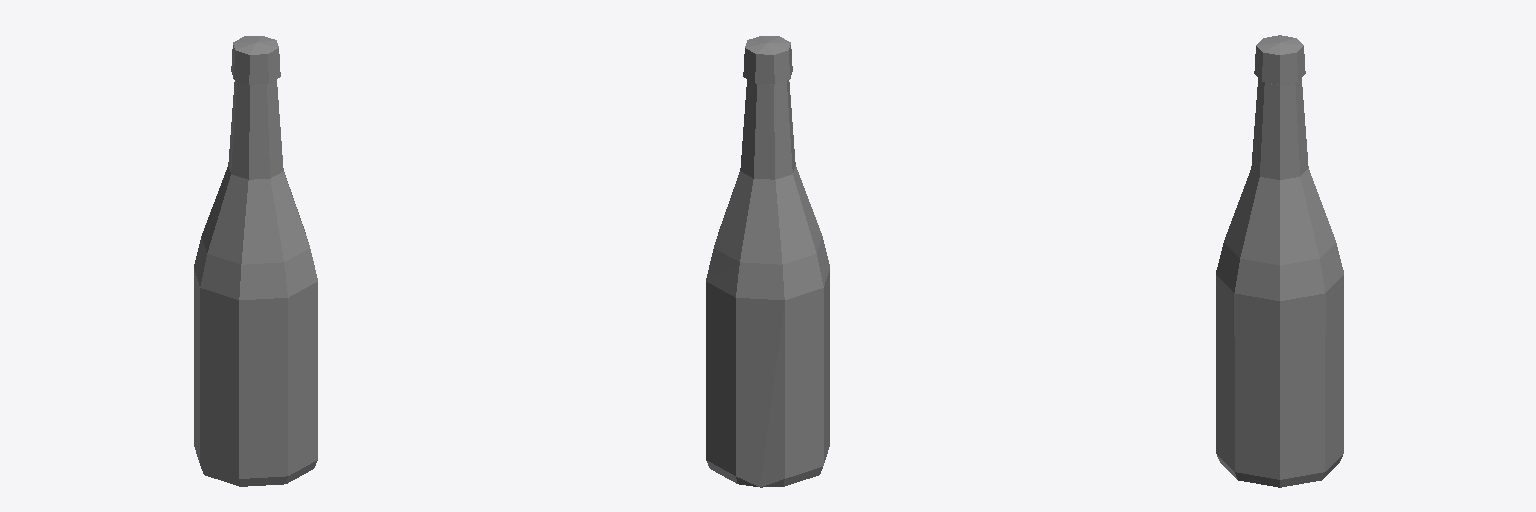
The model's file is broken_normals.obj.
3 renders of one model, left to right at view 1: azimuth 30°, elevation 25°; view 2: azimuth 150°, elevation 25°; view 3: azimuth 270°, elevation 25°, orthographic.
Visible parts, largest first — view 1: Line002; view 2: Line002; view 3: Line002.
Part boxes in pixels (x1,y1,x2,y2): Line002: (194,36,317,486); Line002: (706,36,829,487); Line002: (1216,35,1343,487).
Size of the model in its own units: 2.69 by 9.84 by 2.69.